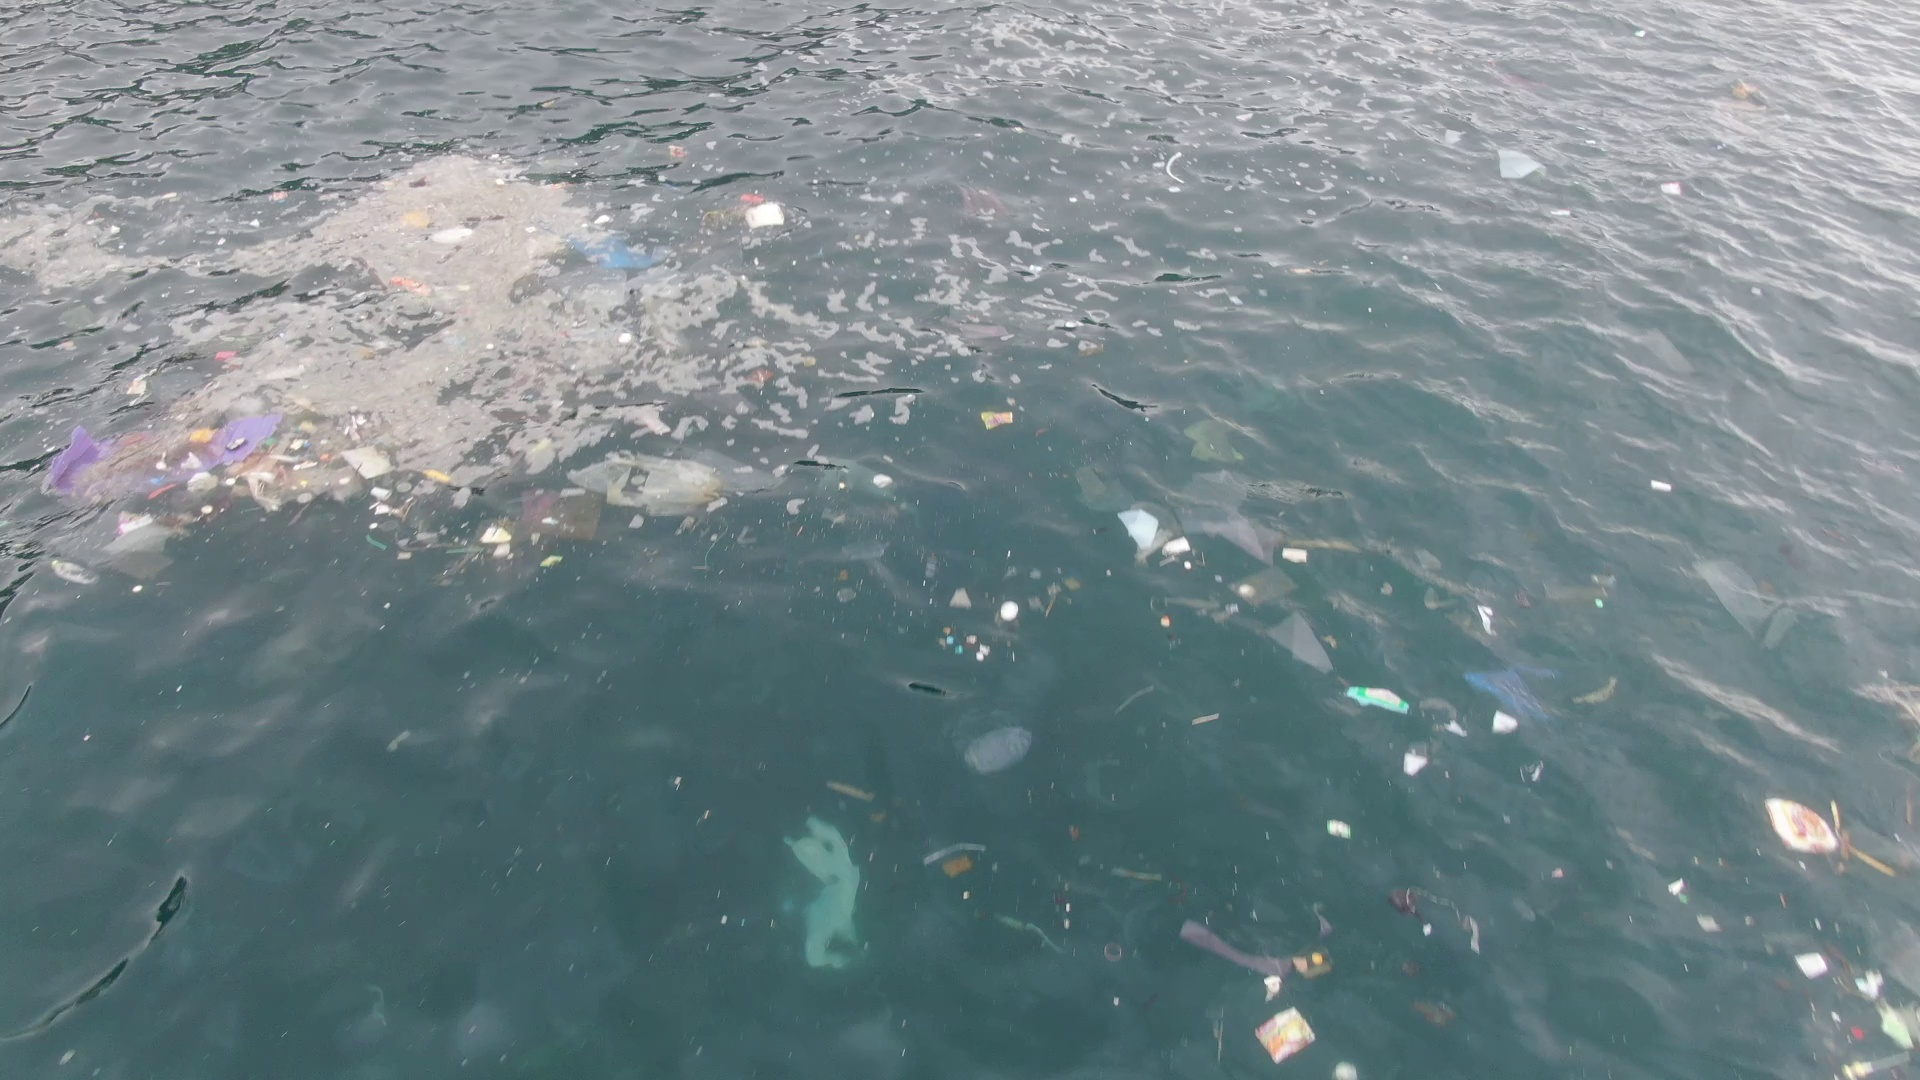bottle: (51, 559, 100, 587)
garbage: (40, 411, 480, 554), (1178, 902, 1337, 1004), (1764, 793, 1898, 887), (566, 446, 731, 516), (787, 816, 862, 969), (1841, 967, 1920, 1079), (1465, 661, 1549, 735), (1390, 887, 1480, 953), (1118, 500, 1189, 564), (520, 485, 603, 541), (564, 231, 665, 276), (961, 723, 1033, 775), (1255, 1006, 1313, 1065), (918, 837, 990, 882), (386, 272, 473, 305), (1342, 684, 1408, 721), (735, 190, 789, 232), (935, 626, 990, 665), (1495, 142, 1545, 181), (1789, 949, 1836, 978), (1398, 748, 1432, 781), (427, 225, 481, 244), (1654, 177, 1691, 202), (1325, 815, 1356, 845), (125, 367, 156, 396), (978, 409, 1019, 430), (480, 522, 513, 545), (1276, 545, 1311, 566), (996, 597, 1023, 622), (1476, 603, 1495, 636), (948, 587, 977, 609), (665, 142, 698, 160), (870, 469, 897, 491), (266, 186, 291, 206), (1648, 479, 1673, 493), (215, 348, 237, 361), (541, 554, 563, 567), (618, 331, 632, 344), (1596, 596, 1605, 609), (495, 175, 505, 186)
